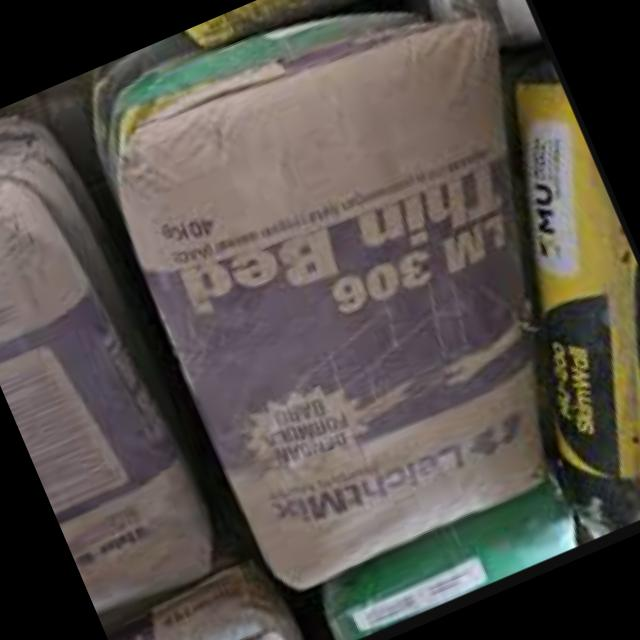KantongSemen: (70, 0, 631, 606)
